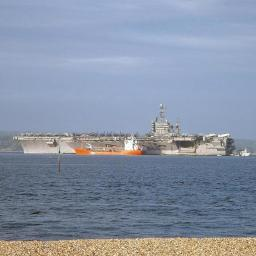Portanaves: (12, 100, 241, 157)
